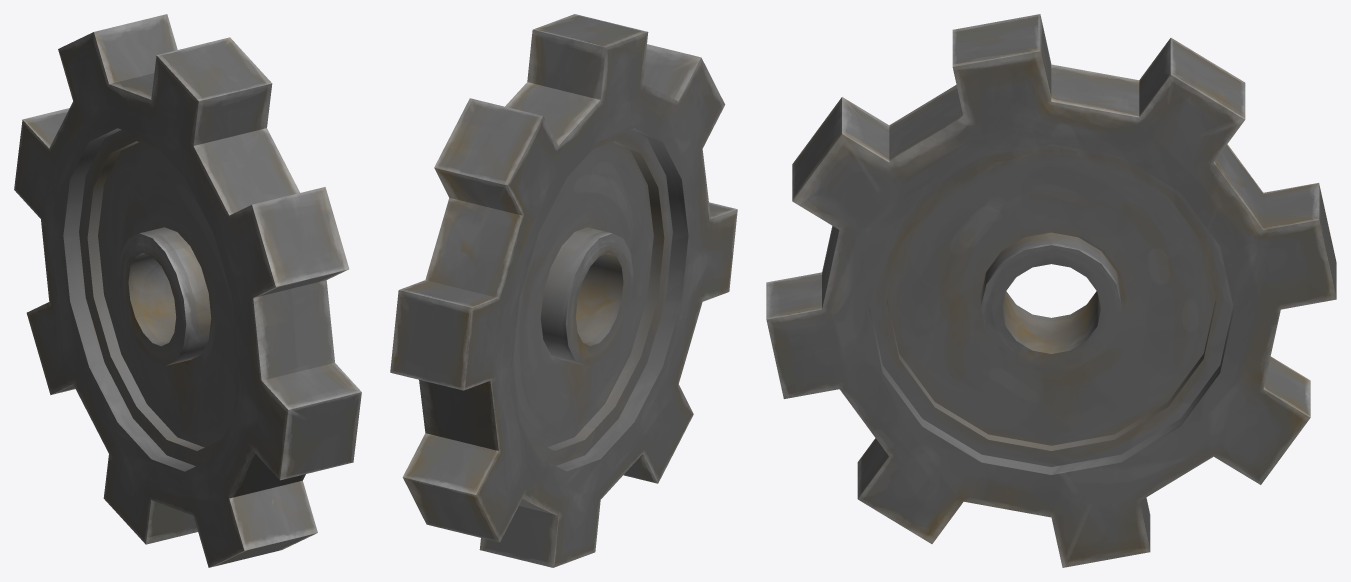
Rendered from gear.fbx.
3 renders of one model, left to right at view 1: azimuth 30°, elevation 25°; view 2: azimuth 150°, elevation 25°; view 3: azimuth 270°, elevation 25°, orthographic. The views are drawn at different scales.
Visible parts, largest first — view 1: gear; view 2: gear; view 3: gear.
Part boxes in pixels (box(x1,y1,x2,y2)): gear: box(14, 14, 361, 567); gear: box(390, 14, 737, 567); gear: box(766, 14, 1336, 567).
Bounding box in the file's own units: 26.37 × 170 × 170.
